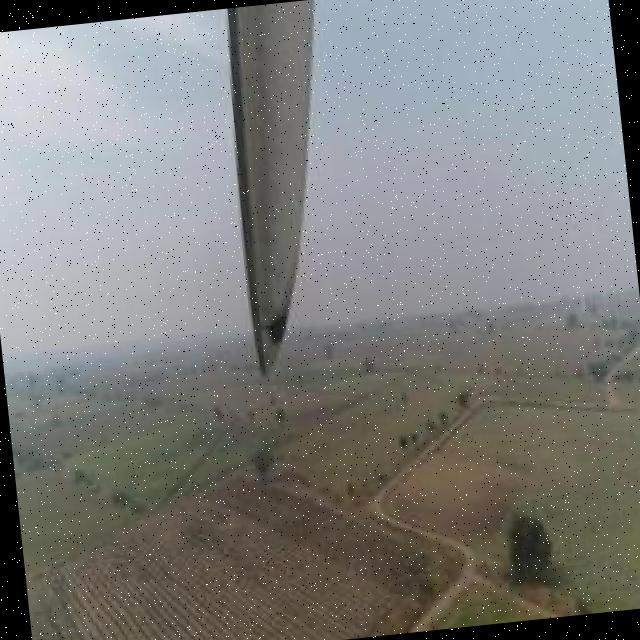Dirt: (228, 0, 316, 379)
Oil LEAKAGE: (265, 308, 290, 343)
